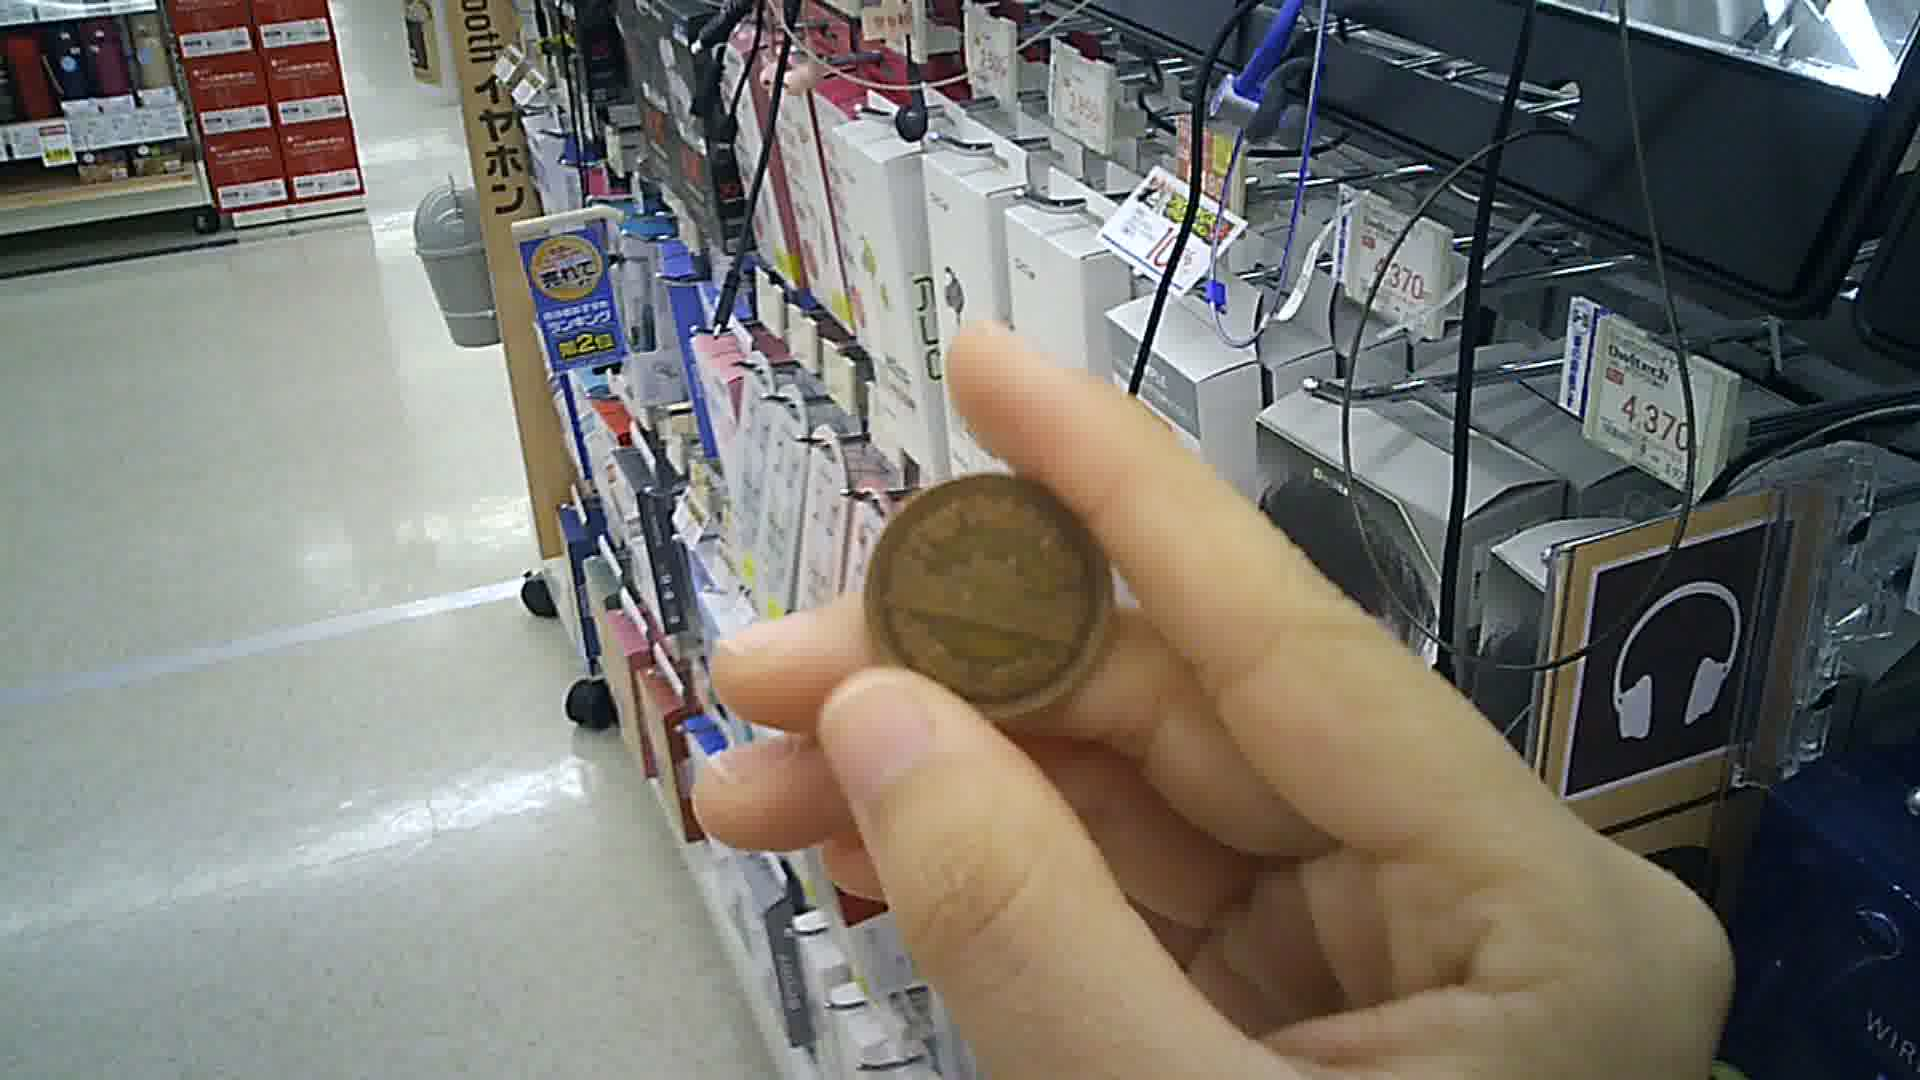10 Yen: (853, 460, 1114, 719)
